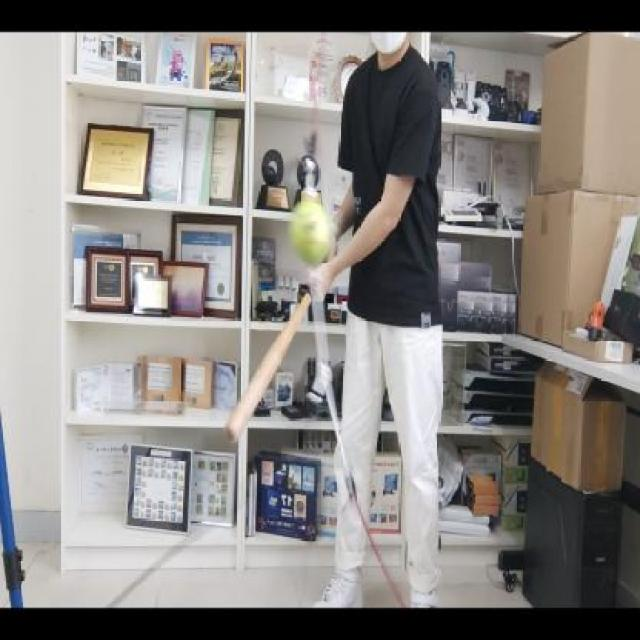baseball: (286, 199, 336, 266)
